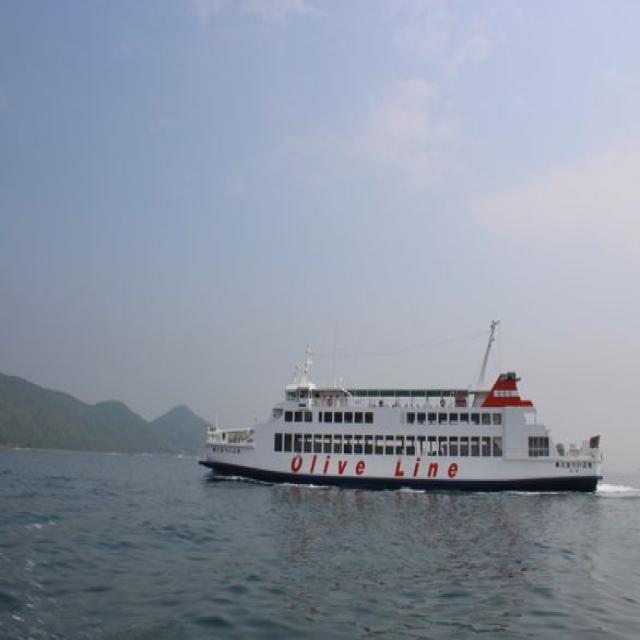passenger ship: (180, 340, 614, 509)
